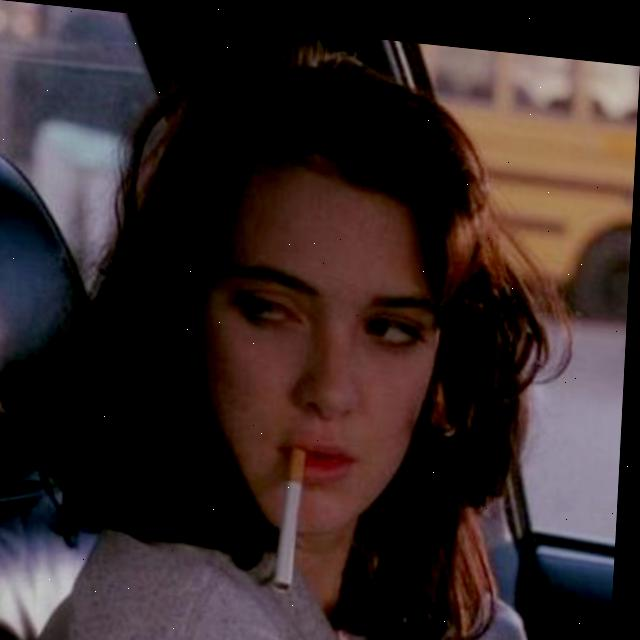cigarette: (275, 438, 311, 585)
